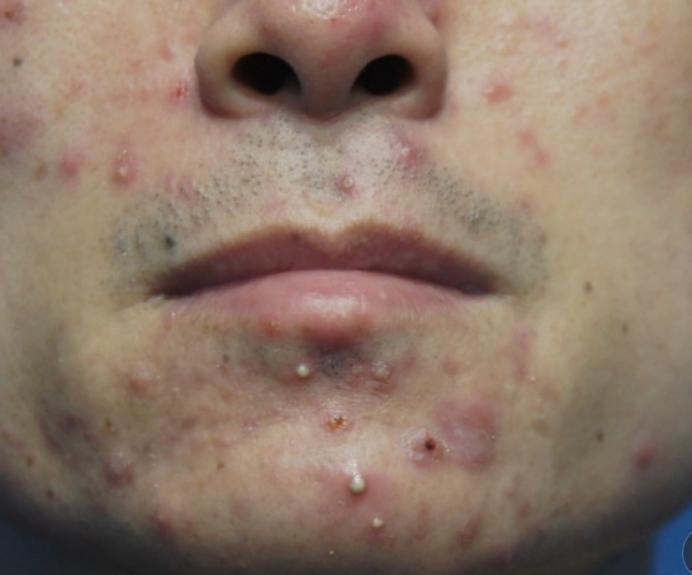papular: (118, 358, 162, 413), (467, 69, 511, 122), (140, 500, 180, 540), (52, 152, 87, 196), (99, 456, 136, 496), (392, 141, 427, 176)
purulent: (107, 157, 151, 194), (364, 509, 403, 546), (342, 469, 376, 506), (290, 356, 318, 391), (372, 359, 397, 386), (340, 175, 361, 195)
sebo-crystan-conglo: (32, 388, 112, 462), (436, 406, 512, 473), (311, 404, 369, 448), (404, 424, 448, 477), (631, 439, 662, 471)
